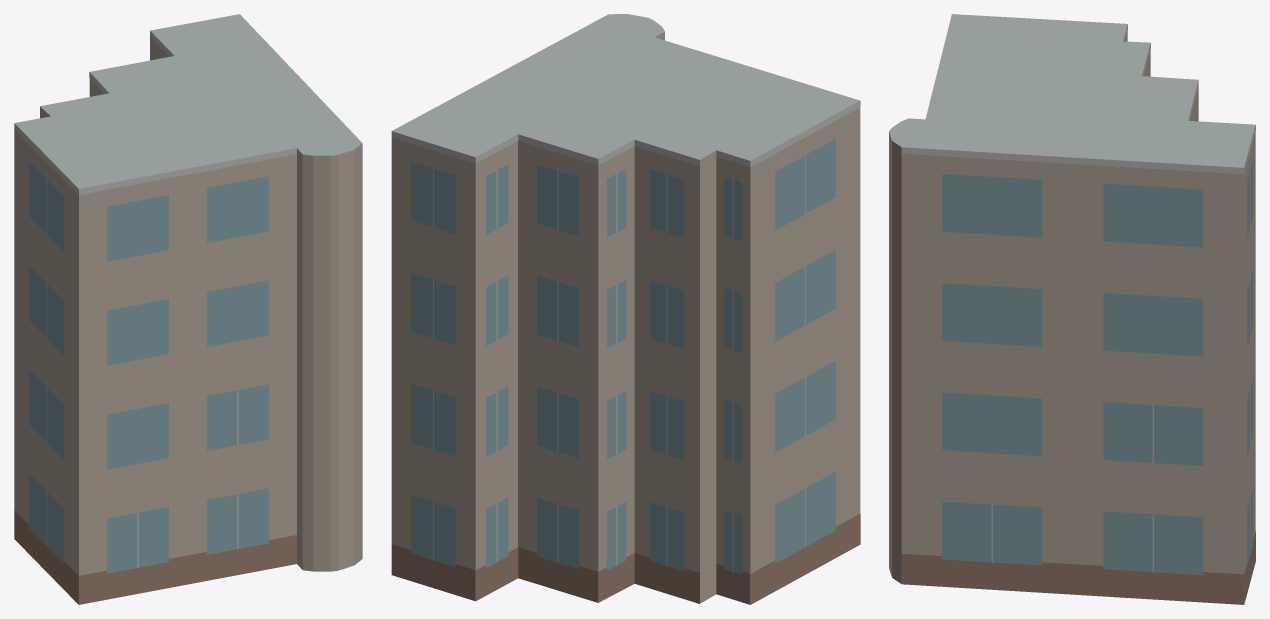
The model's file is survey-upis-32769361.glb.
3 views of the same model, side by side, from view 1: azimuth 30°, elevation 25°; view 2: azimuth 150°, elevation 25°; view 3: azimuth 270°, elevation 25° (orthographic). The views are drawn at different scales.
Visible parts, largest first — view 1: survey-upis-32769361.tmp; view 2: survey-upis-32769361.tmp; view 3: survey-upis-32769361.tmp.
Boxes of the visible parts, x1=… form: survey-upis-32769361.tmp: x1=14, y1=14, x2=362, y2=604; survey-upis-32769361.tmp: x1=391, y1=14, x2=860, y2=604; survey-upis-32769361.tmp: x1=889, y1=14, x2=1255, y2=604.
Bounding box in the file's own units: 12.47 × 16.5 × 12.55.
